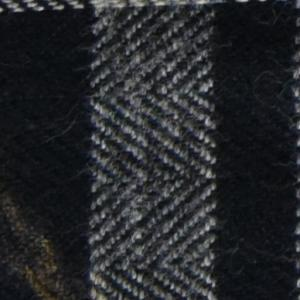Oil Stain: (2, 189, 71, 300)
